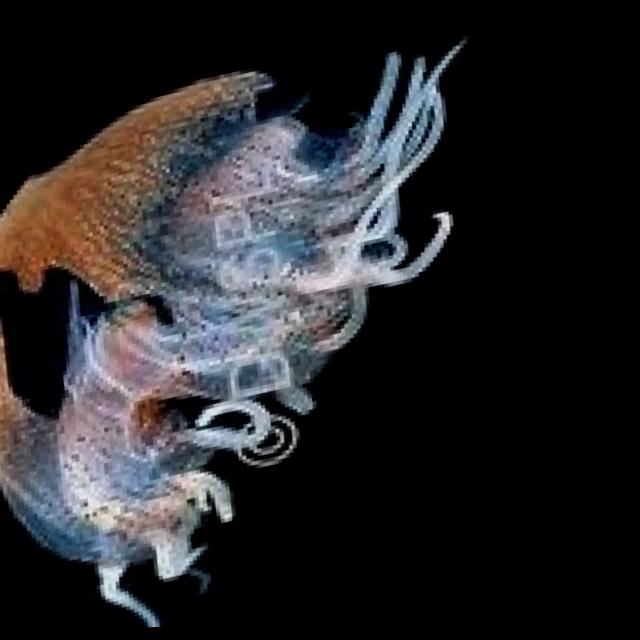Box-jellyfish: (0, 18, 556, 640)
